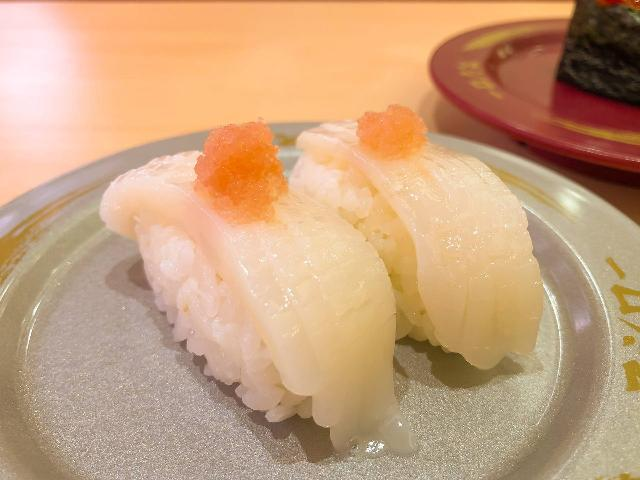janwhite: (0, 154, 640, 480), (442, 22, 640, 155)
